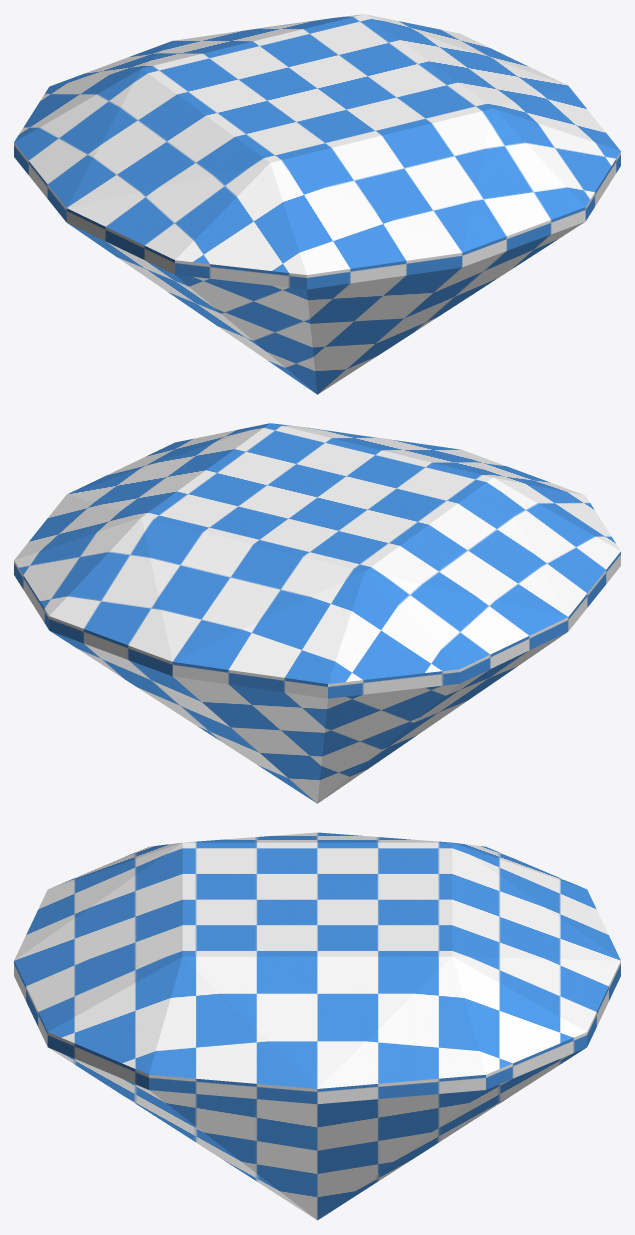
File: MazarinCutPointy.FBX
3 renders of one model, top to bottom at view 1: azimuth 30°, elevation 25°; view 2: azimuth 150°, elevation 25°; view 3: azimuth 270°, elevation 25°, orthographic. The views are drawn at different scales.
Visible parts, largest first — view 1: MazarinCutPointy; view 2: MazarinCutPointy; view 3: MazarinCutPointy.
Part boxes in pixels (x1,y1,x2,y2): MazarinCutPointy: (14,14,620,394); MazarinCutPointy: (14,423,620,803); MazarinCutPointy: (14,832,620,1220).
Size of the model in its own units: 1.14 by 0.6668 by 1.14.
